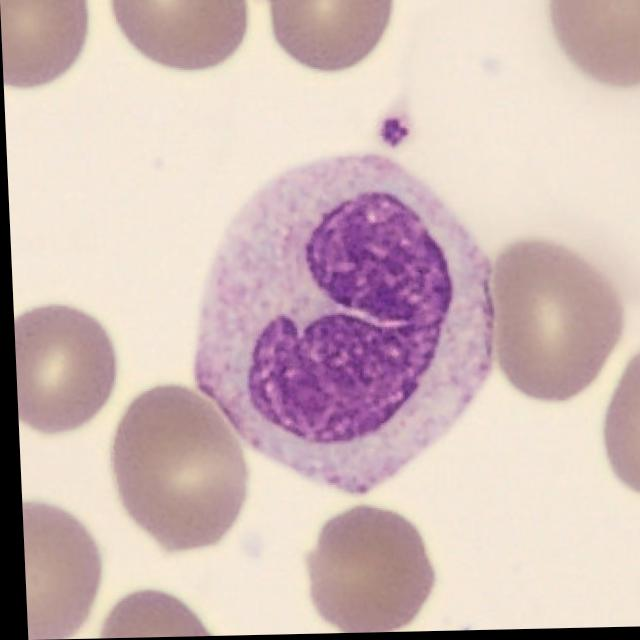Monocito: (192, 155, 494, 497)
